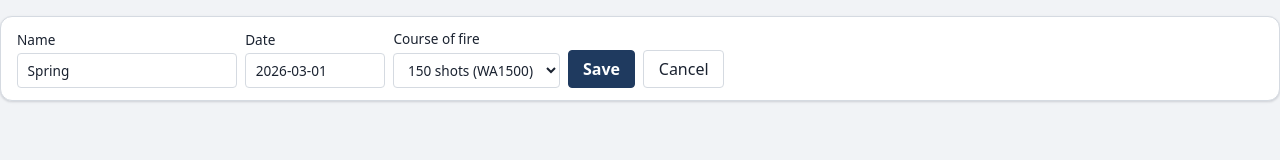
Test: MatchEdit › shows API errors inline
Click the button "Save": [602, 69] box [568, 50, 635, 88]
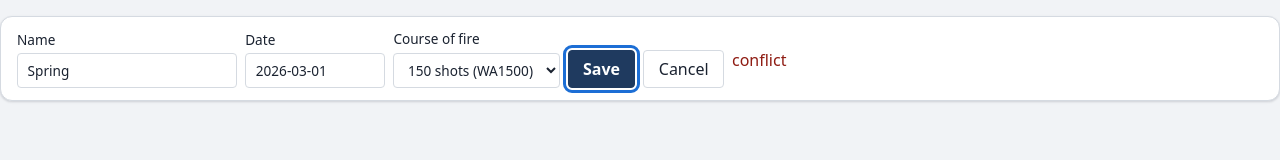
Check: the message reads "conflict", box [732, 49, 786, 71]
